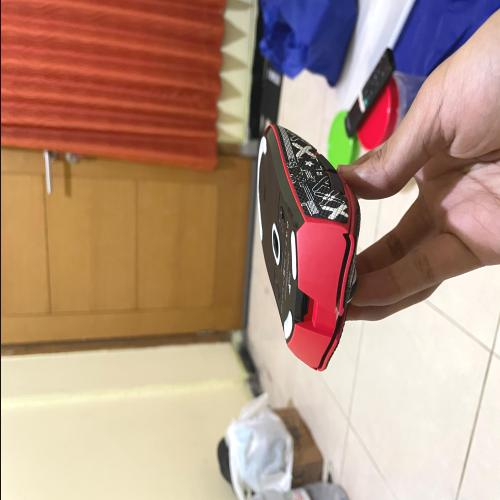mouse: (244, 106, 370, 386)
